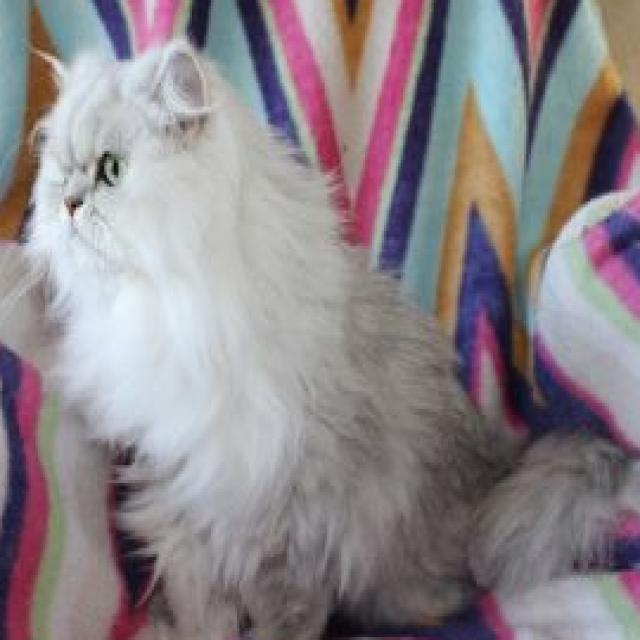Persian: (21, 32, 639, 640)
